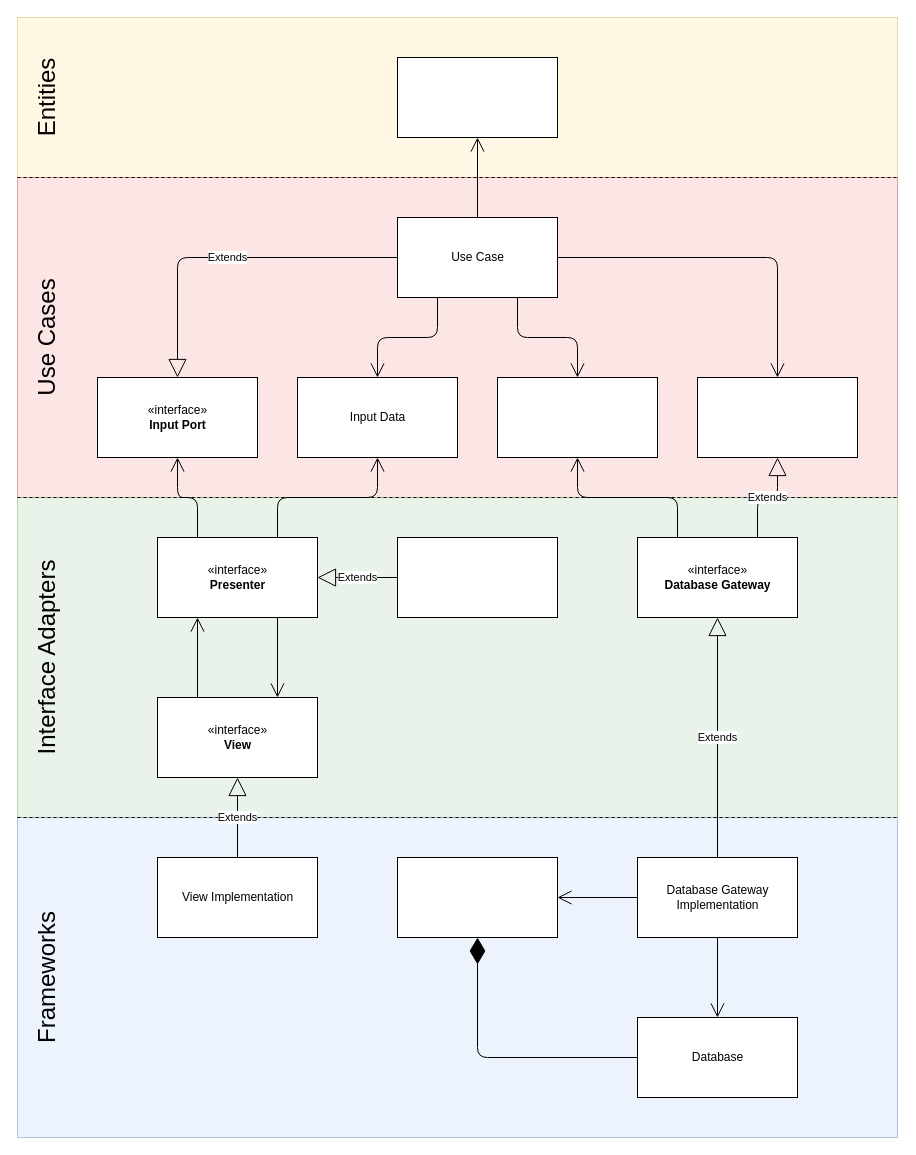
The diagram is 916 pixels wide and 1155 high, and some of its shapes have lost their labels. Here are the shapes that lost their labels. From the top down, the box of each, then its label:
(396, 56, 558, 138): Entity
(496, 376, 658, 458): Output Data
(696, 376, 858, 458): «interface» Output Port
(396, 536, 558, 618): Presenter Implementation
(396, 856, 558, 938): Database Model
